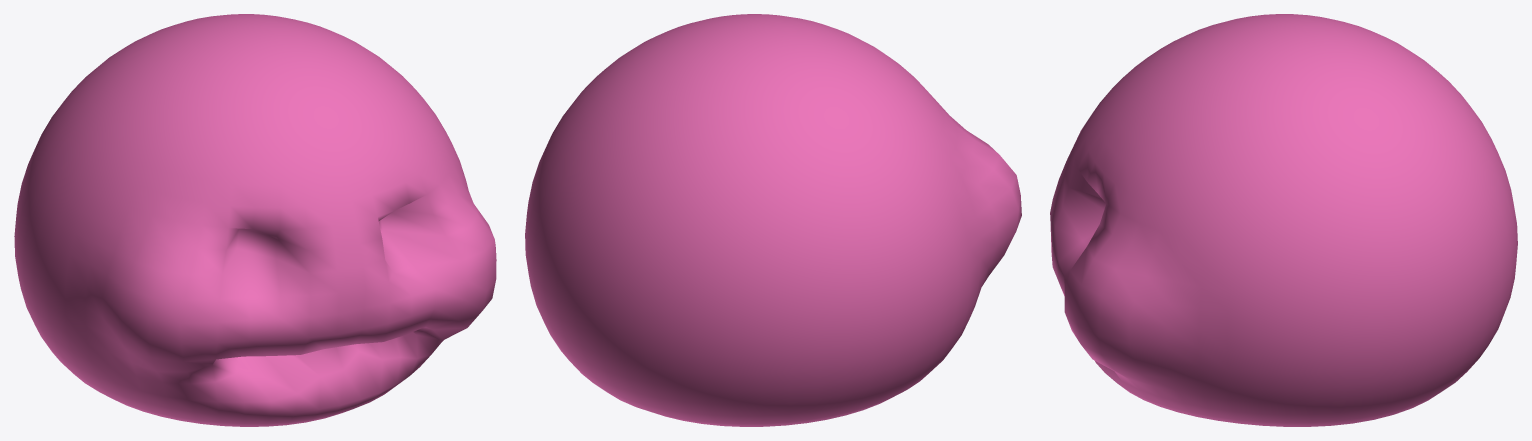
Rendered from horro.glb.
3 views of the same model, side by side, from view 1: azimuth 30°, elevation 25°; view 2: azimuth 150°, elevation 25°; view 3: azimuth 270°, elevation 25° (orthographic).
Parts seen in each view (by area): view 1: Horro; view 2: Horro; view 3: Horro.
Part boxes in pixels (x1=…): Horro: x1=14, y1=14, x2=496, y2=426; Horro: x1=525, y1=14, x2=1021, y2=426; Horro: x1=1050, y1=14, x2=1517, y2=426.
Bounding box in the file's own units: 0.1306 × 0.1036 × 0.1308.
